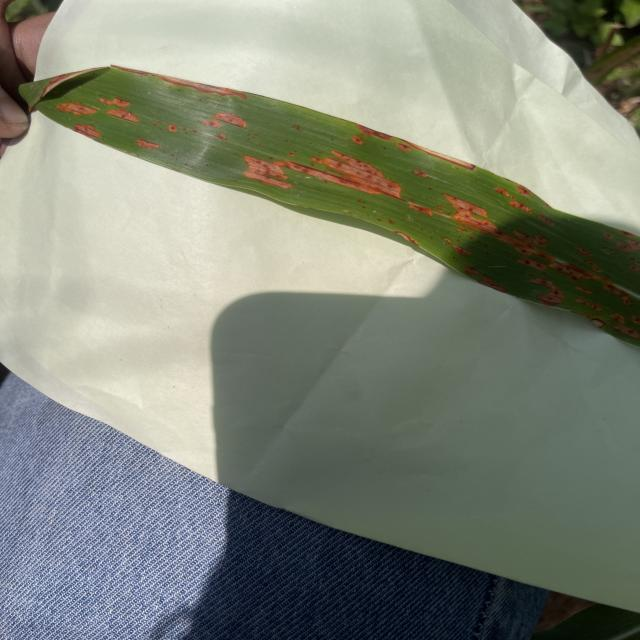millet_rust: (28, 68, 640, 346)
